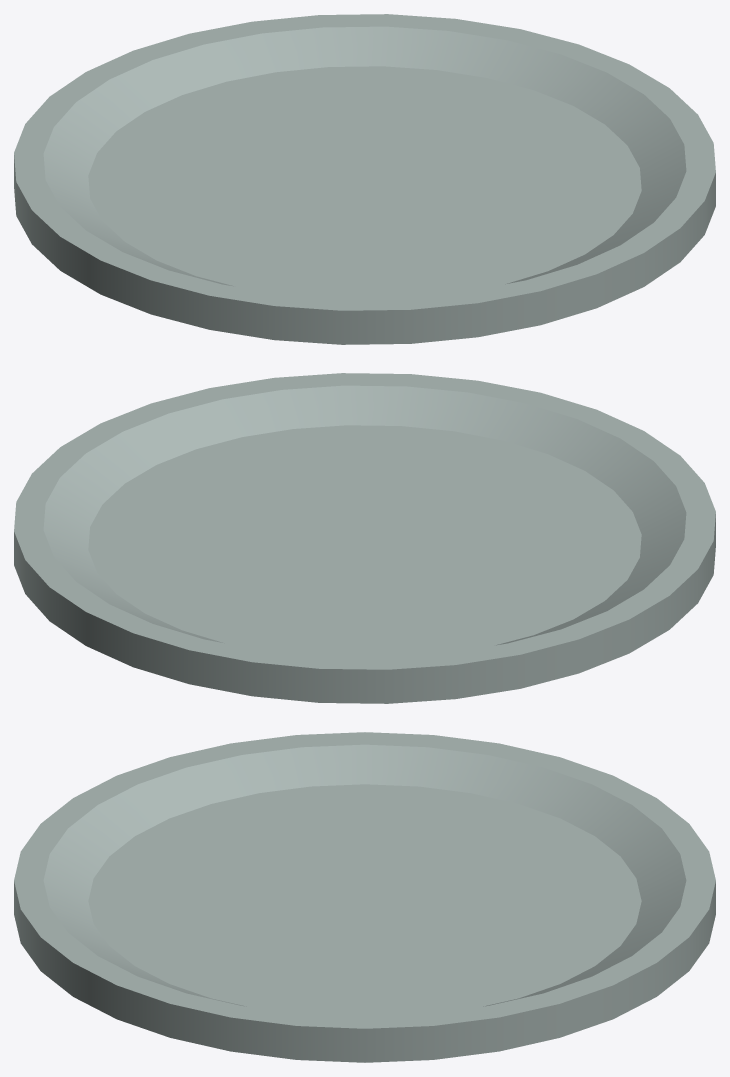
Rendered from Plate.fbx.
3 views of the same model, one above another, from view 1: azimuth 30°, elevation 25°; view 2: azimuth 150°, elevation 25°; view 3: azimuth 270°, elevation 25° (orthographic).
Visible parts, largest first — view 1: Cylinder; view 2: Cylinder; view 3: Cylinder.
Part boxes in pixels (box(x1,y1,x2,y2)): Cylinder: box(14, 14, 715, 344); Cylinder: box(14, 373, 715, 703); Cylinder: box(14, 732, 715, 1062).
Size of the model in its own units: 250 by 26.02 by 250.
